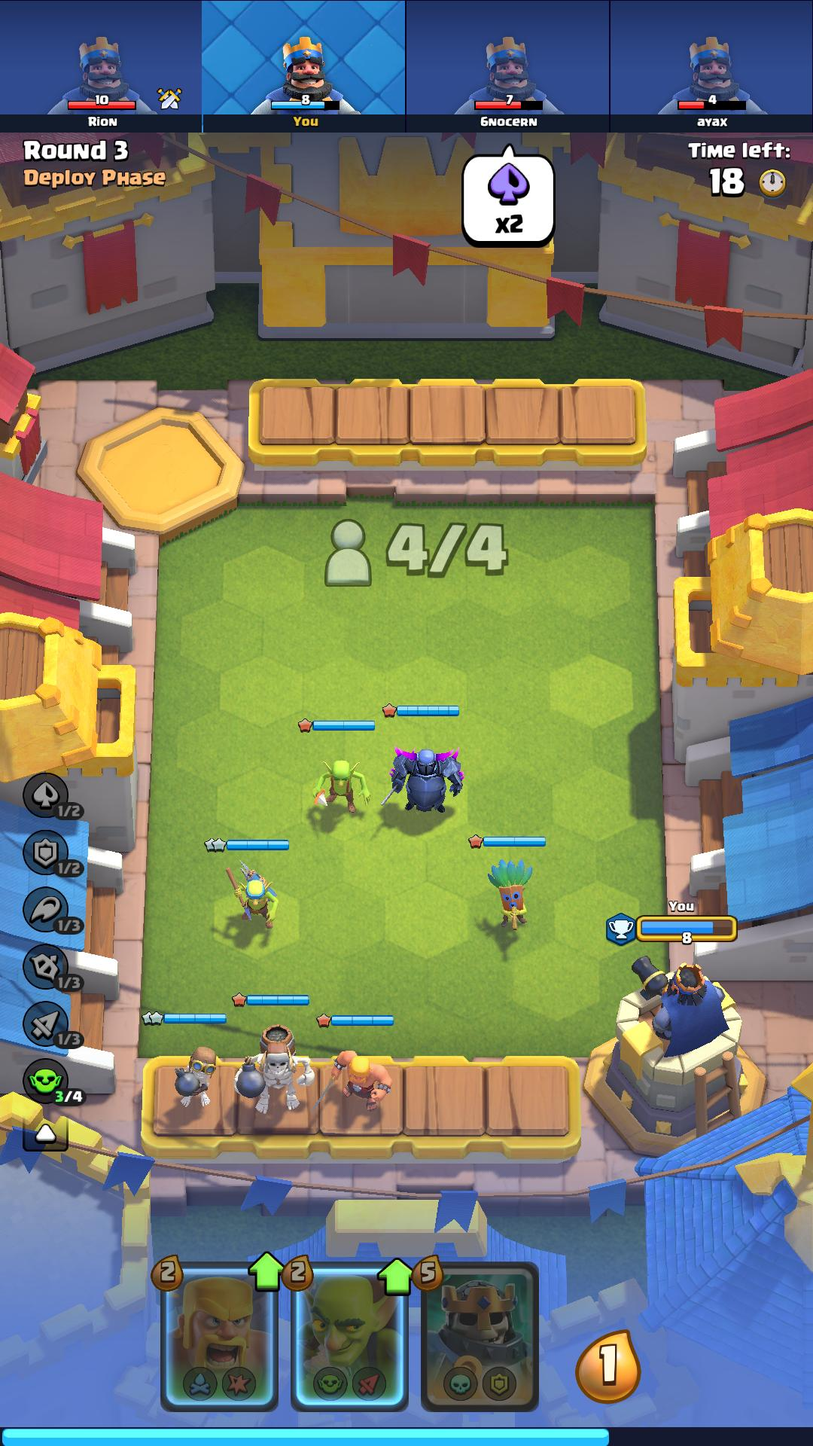barbarian: (314, 1042, 393, 1115)
bomber: (160, 1043, 221, 1108)
dart: (476, 859, 543, 934)
giant: (231, 1022, 314, 1125)
goblin: (306, 754, 376, 820)
hand-barbarian: (161, 1269, 275, 1404)
hand-goblin: (293, 1263, 403, 1408)
hand-king: (425, 1266, 535, 1409)
pekka: (378, 736, 470, 820)
spear: (213, 855, 289, 948)
upgrade: (247, 1249, 286, 1292), (375, 1258, 414, 1294)
